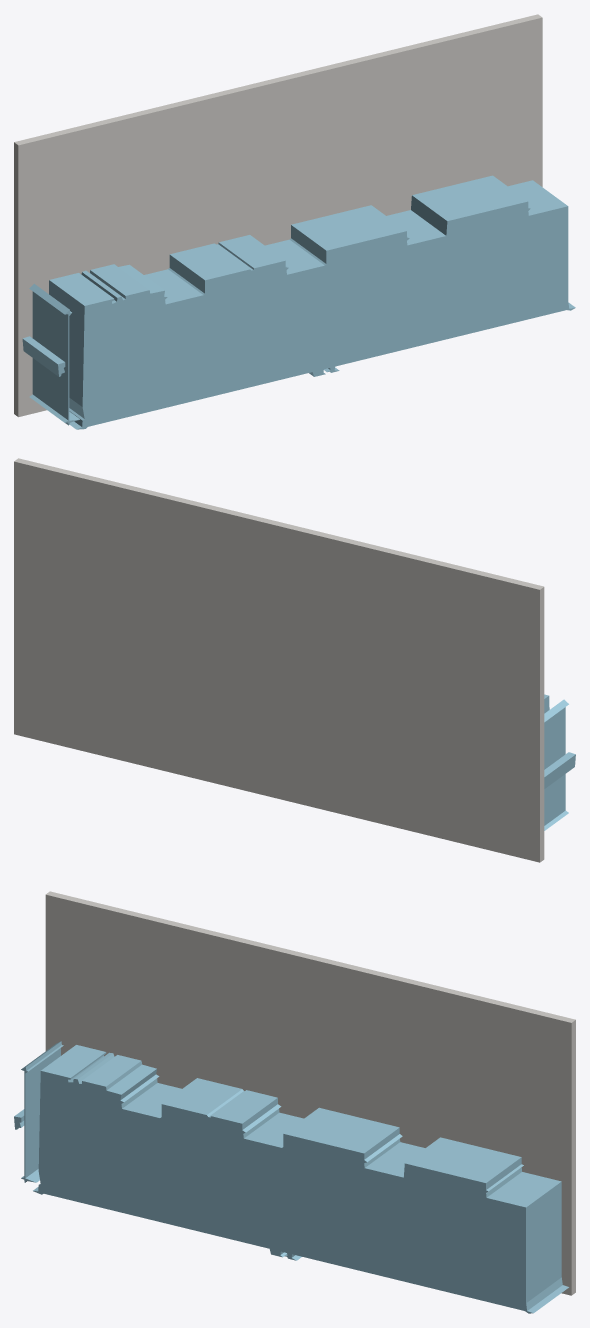
The picture shows the model from 3 angles, top to bottom: view 1: azimuth 30°, elevation 25°; view 2: azimuth 150°, elevation 25°; view 3: azimuth 330°, elevation 25°; orthographic projection.
Visible parts, largest first — view 1: world; view 2: world; view 3: world.
Boxes of the visible parts, x1,y1,x2,y2 form: world: (14,14,575,429); world: (14,458,575,862); world: (14,891,575,1313).
Bounding box in the file's own units: 10.23 × 5.07 × 1.35.
